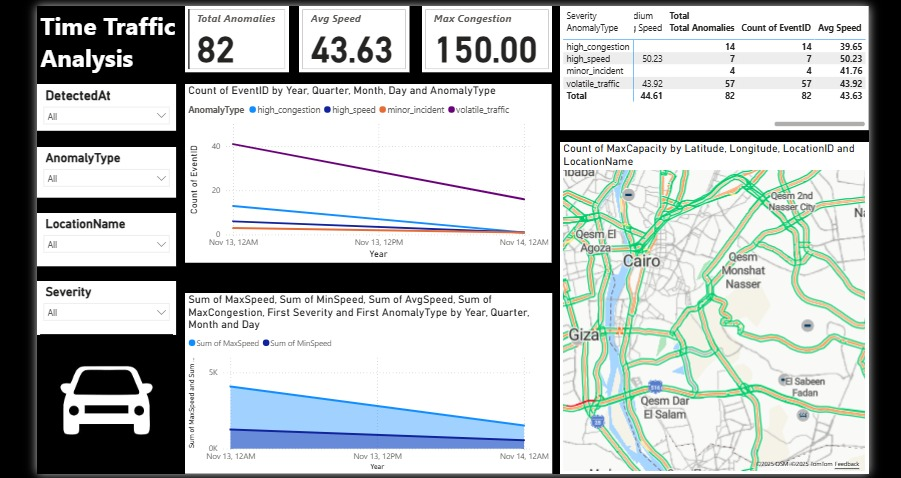

The dashboard page shown, as its layout file describes it:
{"tool":"powerbi","page":{"name":"Page 1","canvas":[1280,720],"ordinal":0},"visuals":[{"type":"cardVisual","fields":{"Data":["Anomalies.Avg Speed"]},"box":[403.2,0,169.9,102.2],"z":0},{"type":"cardVisual","fields":{"Data":["Anomalies.Max Congestion"]},"box":[591.8,0,200.2,102.2],"z":1000},{"type":"azureMap","fields":{"Y":["Locations.Latitude"],"X":["Locations.Longitude"],"PathID":["Locations.LocationID"],"PointOrder":["Locations.LocationName"],"Size":["CountNonNull(Locations.MaxCapacity)"]},"box":[804.6,209.2,475.4,510.8],"z":2000},{"type":"cardVisual","fields":{"Data":["Anomalies.Total Anomalies"]},"box":[227.5,0,159.8,102.2],"z":3000},{"type":"textbox","box":[0,0,307.7,120],"z":4000},{"type":"lineChart","fields":{"Series":["Anomalies.AnomalyType"],"Category":["Anomalies.DetectedAt.Variation.Date Hierarchy.Year","Anomalies.DetectedAt.Variation.Date Hierarchy.Quarter","Anomalies.DetectedAt.Variation.Date Hierarchy.Month","Anomalies.DetectedAt.Variation.Date Hierarchy.Day"],"Y":["CountNonNull(Anomalies.EventID)"]},"box":[227.5,119.5,564.5,275],"z":5000},{"type":"areaChart","fields":{"Y":["Sum(Anomalies.MaxSpeed)","Sum(Anomalies.MinSpeed)"],"Category":["Anomalies.DetectedAt.Variation.Date Hierarchy.Year","Anomalies.DetectedAt.Variation.Date Hierarchy.Quarter","Anomalies.DetectedAt.Variation.Date Hierarchy.Month","Anomalies.DetectedAt.Variation.Date Hierarchy.Day"]},"box":[227.7,441.5,564.6,278.5],"z":6000},{"type":"pivotTable","fields":{"Rows":["Anomalies.AnomalyType"],"Values":["Anomalies.Total Anomalies","CountNonNull(Anomalies.EventID)","Anomalies.Avg Speed"],"Columns":["Anomalies.Severity"]},"box":[804.6,0,475.4,190.8],"z":7000},{"type":"slicer","fields":{"Values":["Anomalies.DetectedAt"]},"box":[0,120,213.8,72.3],"z":8000},{"type":"slicer","fields":{"Values":["Anomalies.AnomalyType"]},"box":[0,216.9,213.8,78.5],"z":10000},{"type":"slicer","fields":{"Values":["Anomalies.LocationName"]},"box":[0,318.5,213.8,81.5],"z":11000},{"type":"slicer","fields":{"Values":["Anomalies.Severity"]},"box":[0,423.1,213.8,83.1],"z":12000},{"type":"image","box":[0,493.8,213.8,226.2],"z":13000}]}

Visuals, with their boxes in screenshot pixels (x1, y1, x2, y2):
cardVisual - Anomalies.Avg Speed: 295, 2, 406, 69
cardVisual - Anomalies.Max Congestion: 418, 2, 550, 69
azureMap - Locations.Latitude x Locations.Longitude: 558, 140, 870, 474
cardVisual - Anomalies.Total Anomalies: 180, 2, 284, 69
textbox: 30, 2, 232, 81
lineChart - Anomalies.AnomalyType x Anomalies.DetectedAt.Variation.Date Hierarchy.Year: 180, 81, 550, 261
areaChart - Sum(Anomalies.MaxSpeed) x Sum(Anomalies.MinSpeed): 180, 292, 550, 474
pivotTable - Anomalies.AnomalyType x Anomalies.Total Anomalies: 558, 2, 870, 127
slicer - Anomalies.DetectedAt: 30, 81, 171, 128
slicer - Anomalies.AnomalyType: 30, 145, 171, 196
slicer - Anomalies.LocationName: 30, 211, 171, 265
slicer - Anomalies.Severity: 30, 280, 171, 334
image: 30, 326, 171, 474
